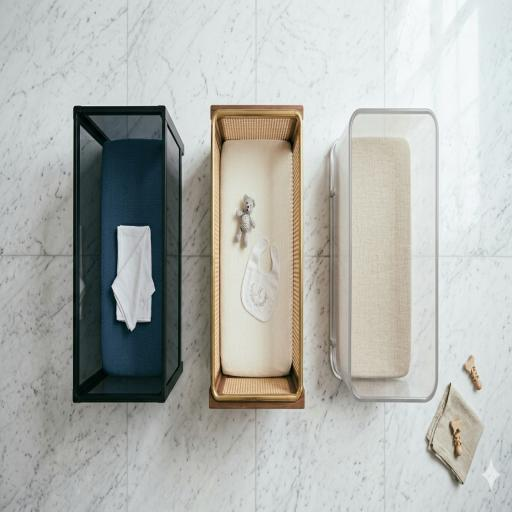crib: (73, 106, 183, 401), (330, 109, 438, 401), (221, 147, 291, 372)
